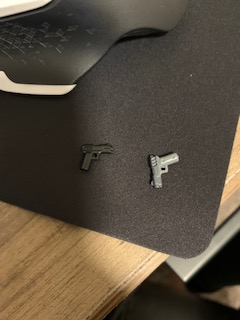pistol: (145, 148, 180, 191), (78, 141, 115, 175)
